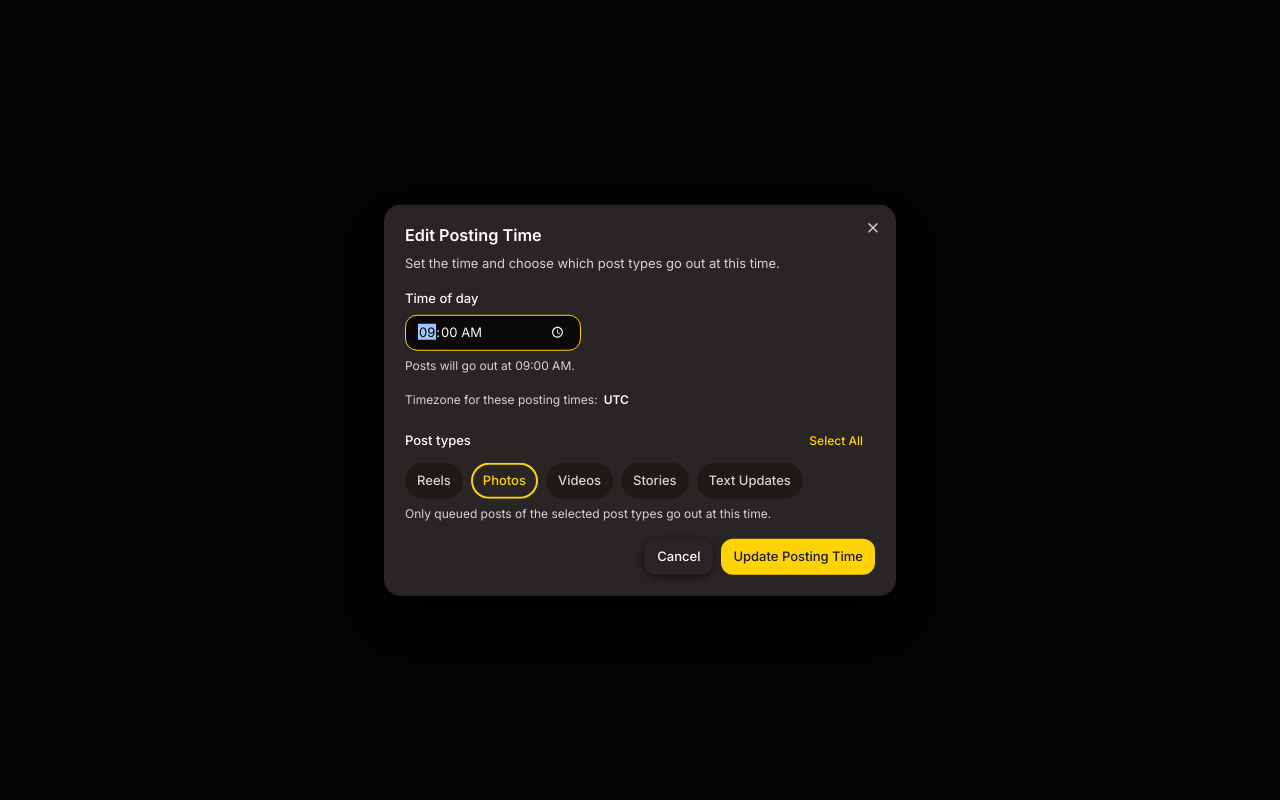
Test: PostingTimeForm › blocks saving with no post type selected and never clears the time
Note: Deselect the only selected format.
Click the button with test id "modal-format-toggle-image". click: point(504, 480)
box: [471,462,538,498]
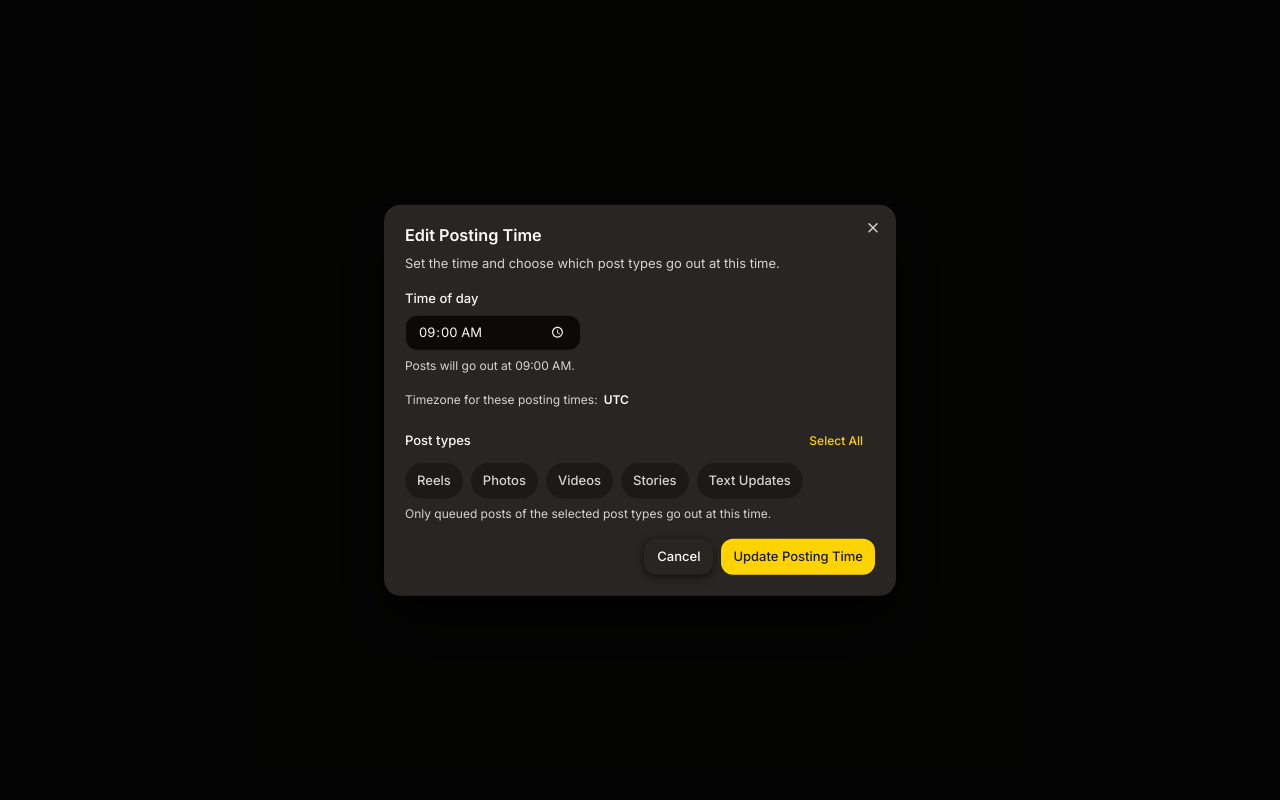
Click the button with test id "save-slot-btn". click: point(798, 556)
box: [721,538,875,574]
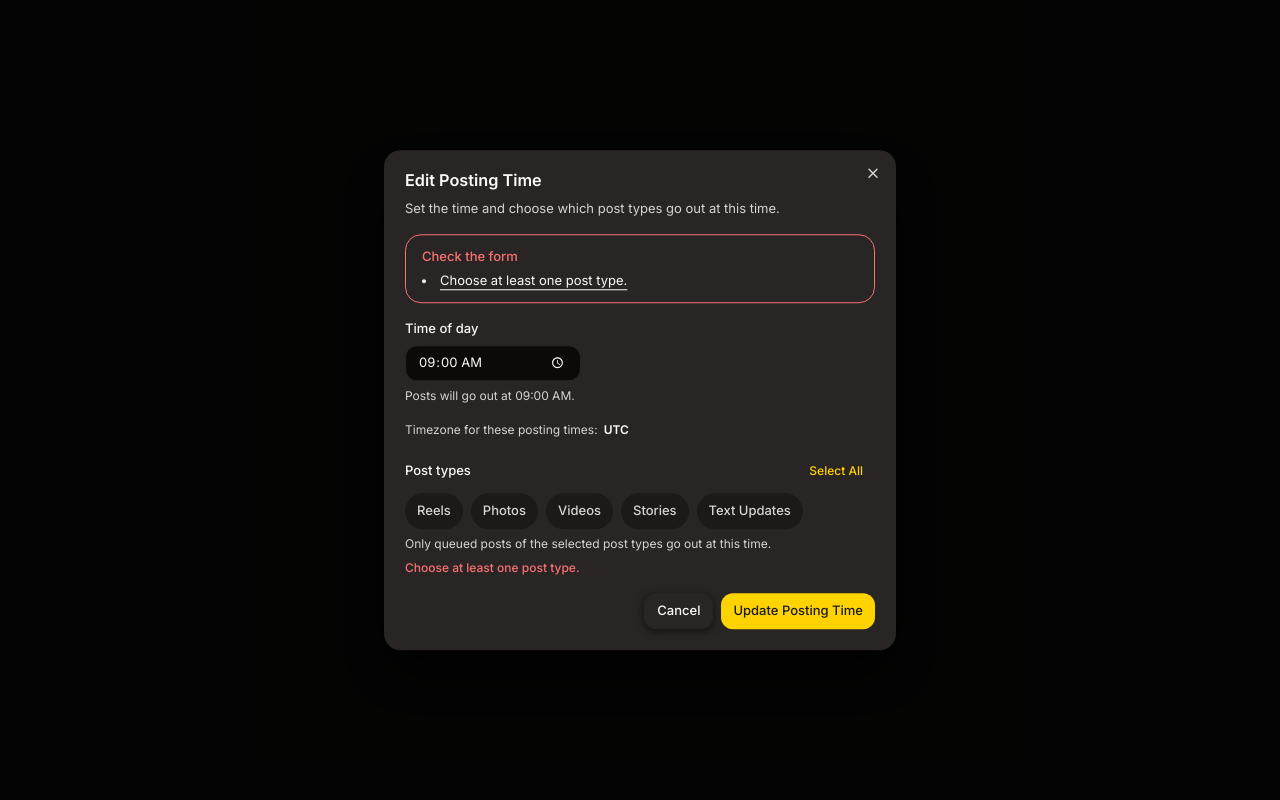
Expected: the time field with test id "posting-time-input" holds "09:00", [405,345,581,381]
Now the number of links "Choose at least one post type." is 2, box [440,272,627,288]; [405,560,580,575]
